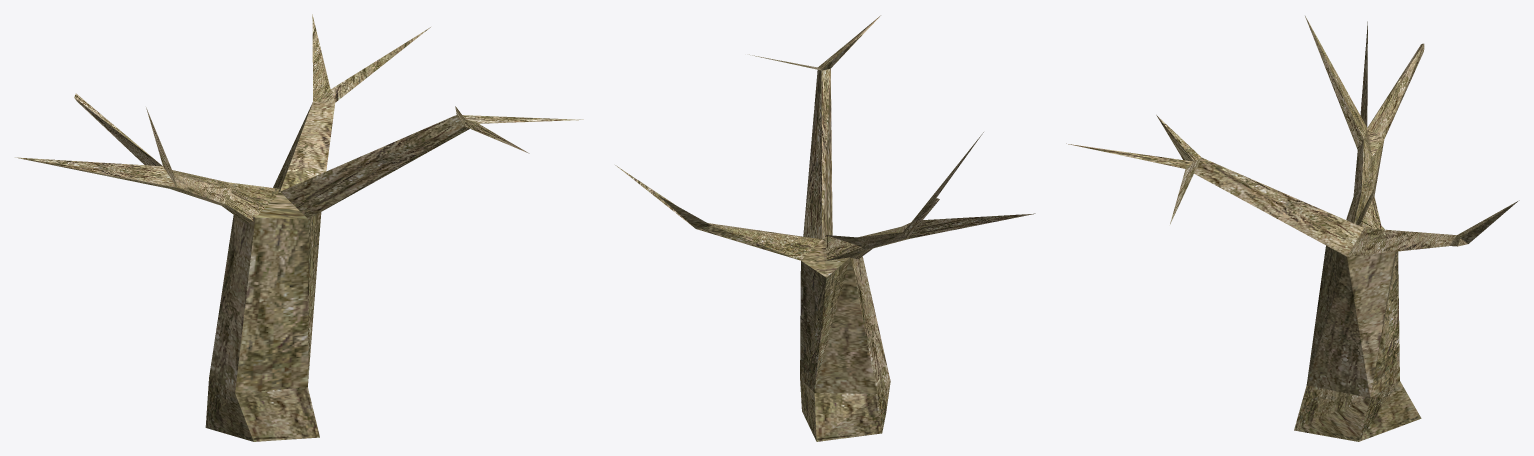
File: gaia_obj_export_temp.obj
The picture shows the model from 3 angles, left to right: view 1: azimuth 30°, elevation 25°; view 2: azimuth 150°, elevation 25°; view 3: azimuth 270°, elevation 25°; orthographic projection. The views are drawn at different scales.
Visible parts, largest first — view 1: Object66; view 2: Object66; view 3: Object66.
Boxes of the visible parts, x1=… form: Object66: x1=15, y1=14, x2=583, y2=441; Object66: x1=615, y1=15, x2=1035, y2=441; Object66: x1=1066, y1=16, x2=1519, y2=441.
Bounding box in the file's own units: 13.3 × 10.12 × 12.16.
